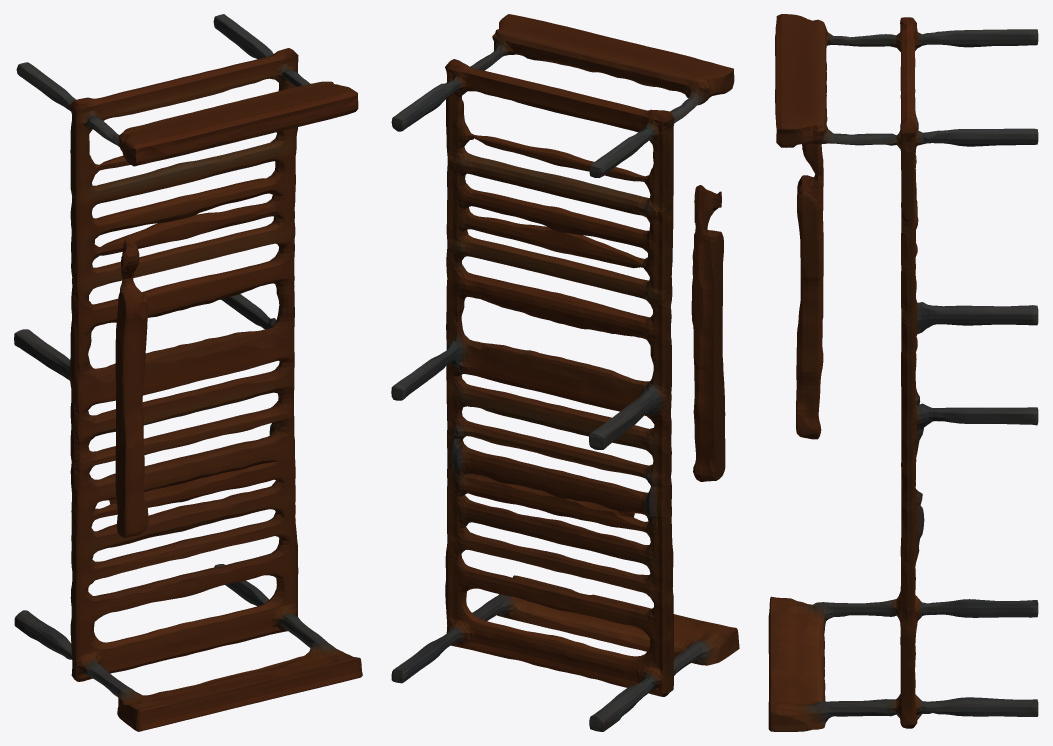
Rendered from bench_1749666441.obj.
The picture shows the model from 3 angles, left to right: view 1: azimuth 30°, elevation 25°; view 2: azimuth 150°, elevation 25°; view 3: azimuth 270°, elevation 25°; orthographic projection. The views are drawn at different scales.
Bounding box in the file's own units: 0.8104 × 1.98 × 0.8014.
